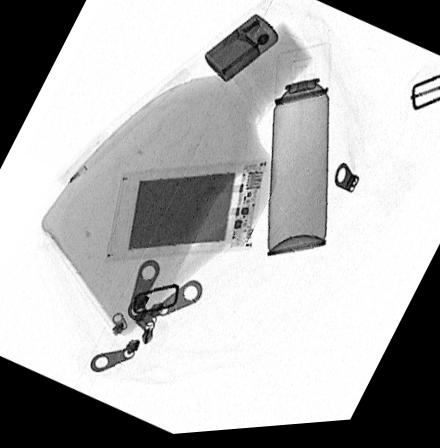Lighter: (204, 17, 278, 85)
Powerbank: (106, 164, 267, 263)
Sprayer: (268, 48, 328, 260)
